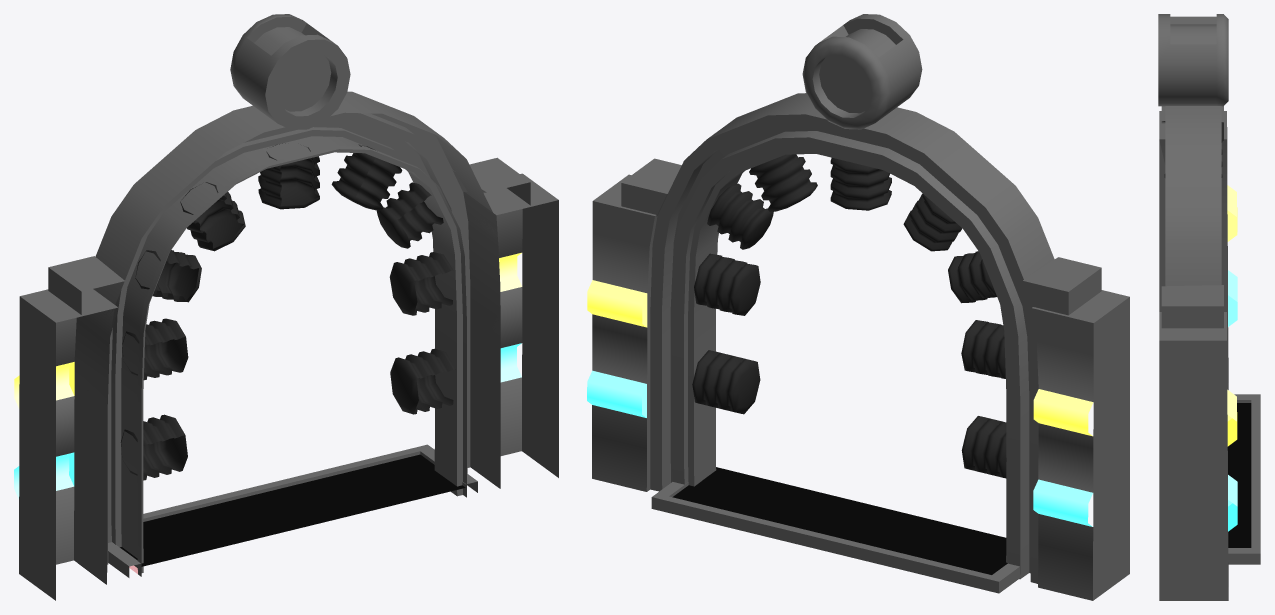
Rendered from PH_mesh_Rooftop_Door_Arc.fbx.
The picture shows the model from 3 angles, left to right: view 1: azimuth 30°, elevation 25°; view 2: azimuth 150°, elevation 25°; view 3: azimuth 270°, elevation 25°; orthographic projection. The views are drawn at different scales.
Parts seen in each view (by area): view 1: mesh_Rooftop_Door_Arc; view 2: mesh_Rooftop_Door_Arc; view 3: mesh_Rooftop_Door_Arc.
Boxes of the visible parts, <box> form: mesh_Rooftop_Door_Arc: <box>14,14,558,600</box>; mesh_Rooftop_Door_Arc: <box>587,14,1129,600</box>; mesh_Rooftop_Door_Arc: <box>1158,14,1260,600</box>.
Bounding box in the file's own units: 4.67 × 4.44 × 0.8774.
